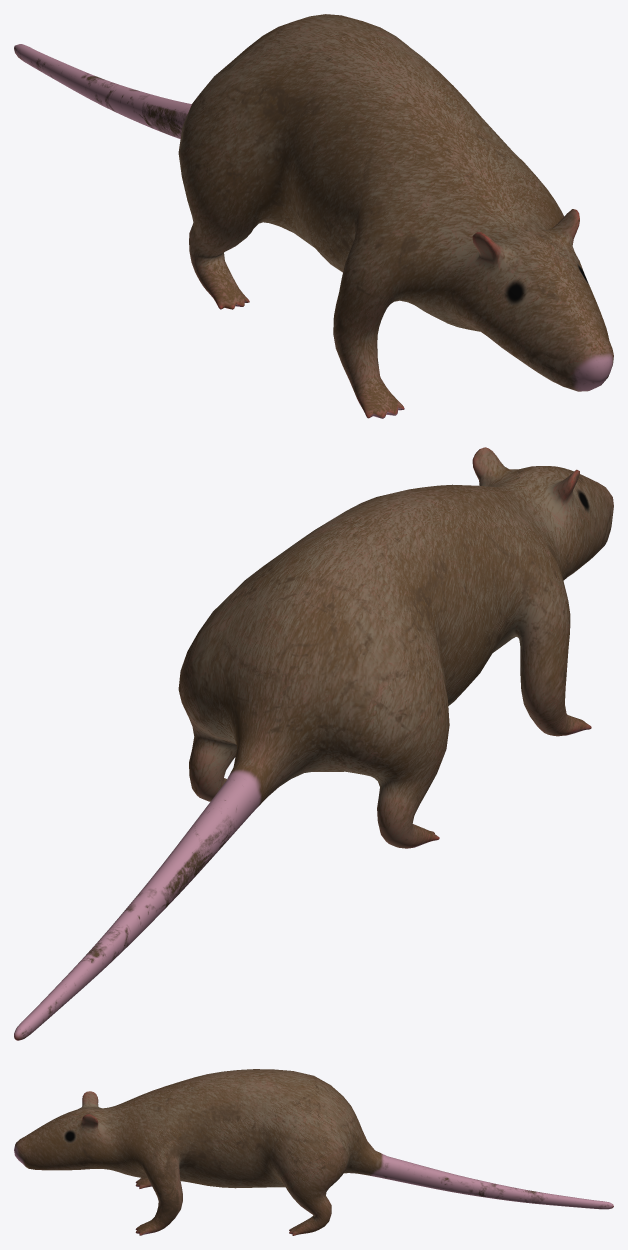
File: RatTexture.gltf
3 renders of one model, top to bottom at view 1: azimuth 30°, elevation 25°; view 2: azimuth 150°, elevation 25°; view 3: azimuth 270°, elevation 25°, orthographic. The views are drawn at different scales.
Visible parts, largest first — view 1: SM_Rat; view 2: SM_Rat; view 3: SM_Rat.
Boxes of the visible parts, x1,y1,x2,y2 form: SM_Rat: [14, 14, 613, 418]; SM_Rat: [14, 447, 613, 1040]; SM_Rat: [14, 1069, 613, 1235].
Size of the model in its own units: 0.0767 by 0.0787 by 0.3146.
1 material, 1 textured.
